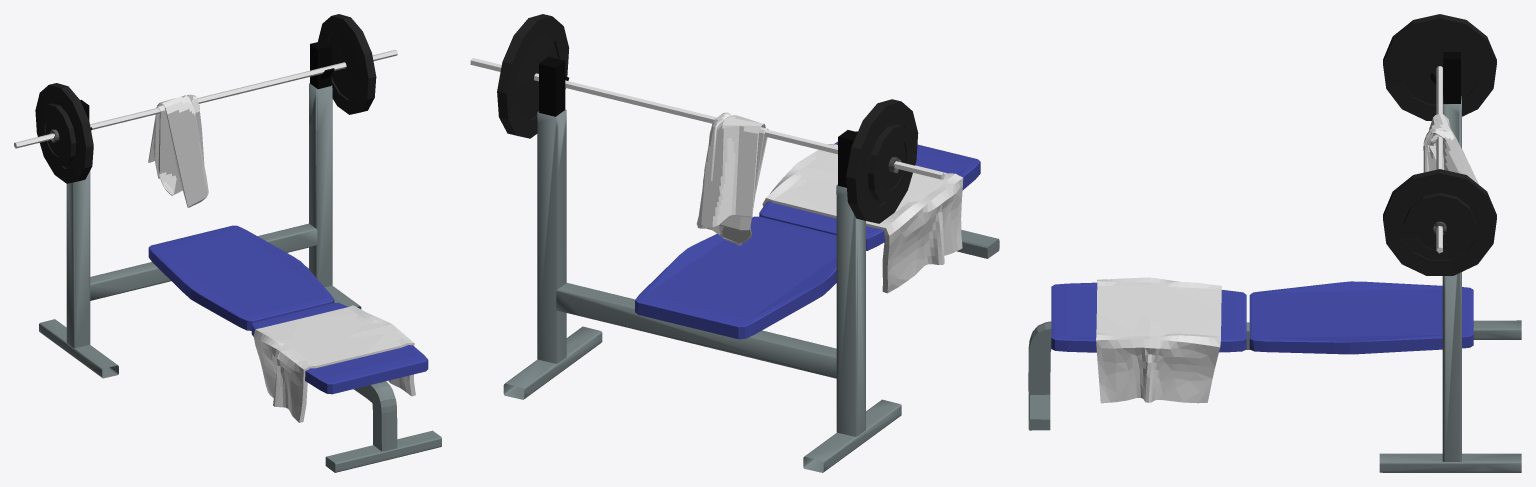
File: benchpress_towels.fbx
The picture shows the model from 3 angles, left to right: view 1: azimuth 30°, elevation 25°; view 2: azimuth 150°, elevation 25°; view 3: azimuth 270°, elevation 25°; orthographic projection. The views are drawn at different scales.
Visible parts, largest first — view 1: Pillows, Profile base 2, Towel1, Towel2, Big plate 2, Profile base 1, Big plate 1, Bar, Small plate 1, Bar holder 1; view 2: Profile base 2, Pillows, Towel1, Towel2, Big plate 2, Big plate 1, Bar, Small plate 1, Bar holder 1, Profile base 1, Bar holder 2; view 3: Pillows, Towel1, Big plate 1, Profile base 2, Big plate 2, Small plate 2, Profile base 1, Towel2, Bar holder 2, Bar.
Boxes of the visible parts, <box> form: Pillows: <box>148,225,428,394</box>; Profile base 2: <box>39,83,361,378</box>; Towel1: <box>253,305,415,422</box>; Towel2: <box>148,94,208,207</box>; Big plate 2: <box>318,14,376,114</box>; Profile base 1: <box>325,381,441,472</box>; Big plate 1: <box>35,83,93,183</box>; Bar: <box>14,50,397,148</box>; Small plate 1: <box>39,103,76,166</box>; Bar holder 1: <box>310,40,334,88</box>; Profile base 2: <box>503,109,901,472</box>; Pillows: <box>635,131,980,339</box>; Towel1: <box>762,144,963,293</box>; Towel2: <box>696,112,768,245</box>; Big plate 2: <box>497,14,569,138</box>; Big plate 1: <box>846,99,918,223</box>; Bar: <box>470,58,944,179</box>; Small plate 1: <box>867,124,912,202</box>; Bar holder 1: <box>539,57,569,116</box>; Profile base 1: <box>957,230,999,258</box>; Bar holder 2: <box>838,130,857,187</box>; Pillows: <box>1051,281,1473,354</box>; Towel1: <box>1096,277,1221,403</box>; Big plate 1: <box>1383,14,1496,120</box>; Profile base 2: <box>1379,96,1521,472</box>; Big plate 2: <box>1383,169,1496,275</box>; Small plate 2: <box>1404,193,1475,259</box>; Profile base 1: <box>1028,321,1250,430</box>; Towel2: <box>1423,114,1478,184</box>; Bar holder 2: <box>1430,52,1460,103</box>; Bar: <box>1436,66,1442,253</box>.
Size of the model in its own units: 743 by 512 by 741.
